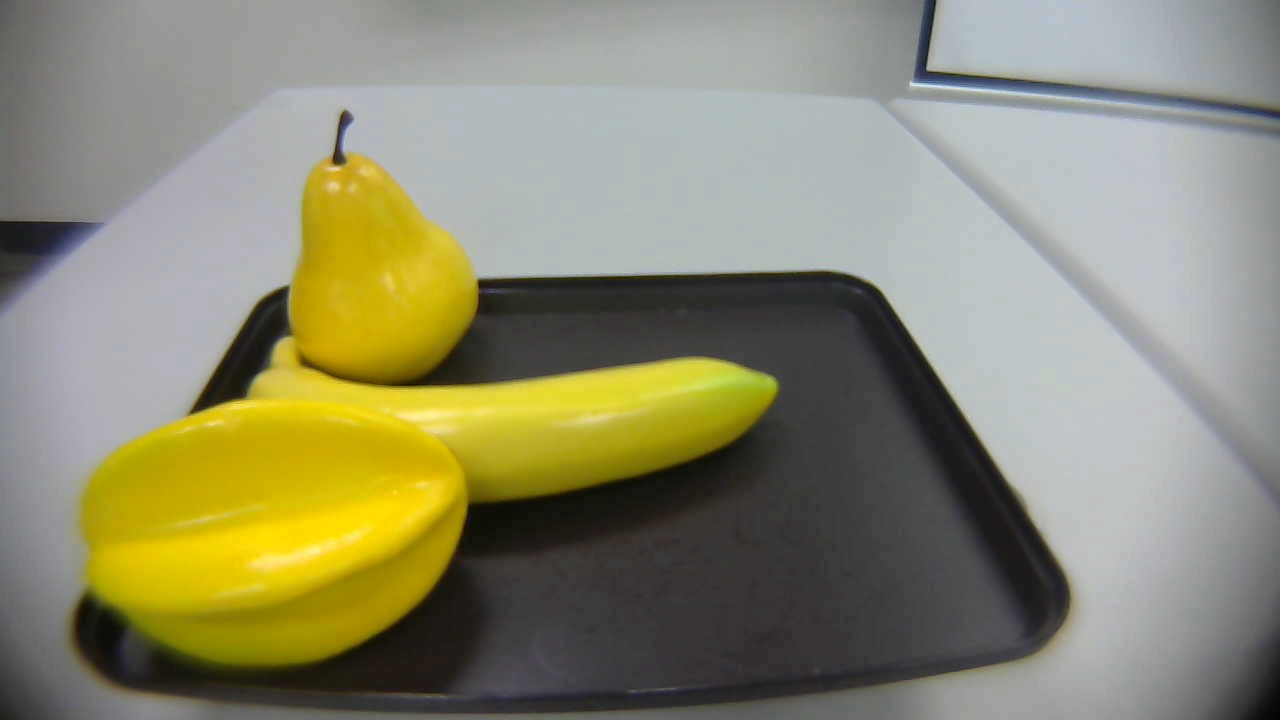banana: (240, 329, 791, 501)
star fruit: (73, 397, 476, 661)
yellow pear: (286, 104, 481, 379)
